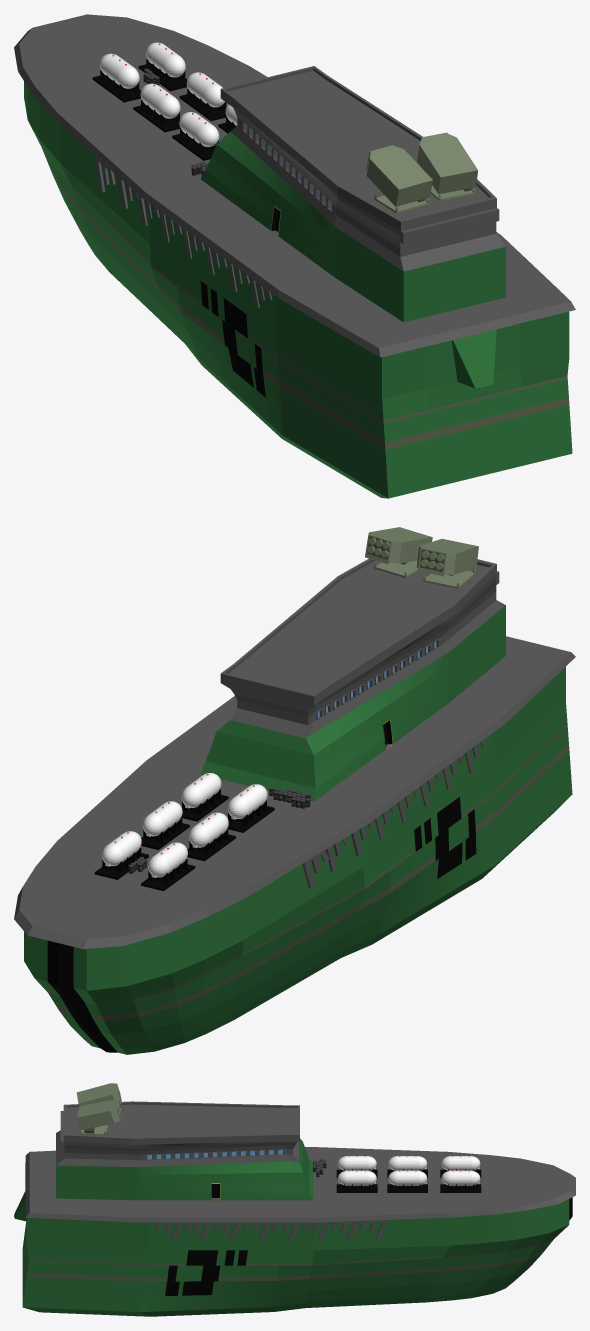
The model's file is Barco5.fbx.
3 renders of one model, top to bottom at view 1: azimuth 30°, elevation 25°; view 2: azimuth 150°, elevation 25°; view 3: azimuth 270°, elevation 25°, orthographic. The views are drawn at different scales.
Visible parts, largest first — view 1: Cube.002; view 2: Cube.002; view 3: Cube.002.
Part boxes in pixels (<box>): Cube.002: <box>14,14,575,498</box>; Cube.002: <box>14,527,575,1054</box>; Cube.002: <box>14,1083,575,1316</box>.
Size of the model in its own units: 1011 by 1240 by 3332.
